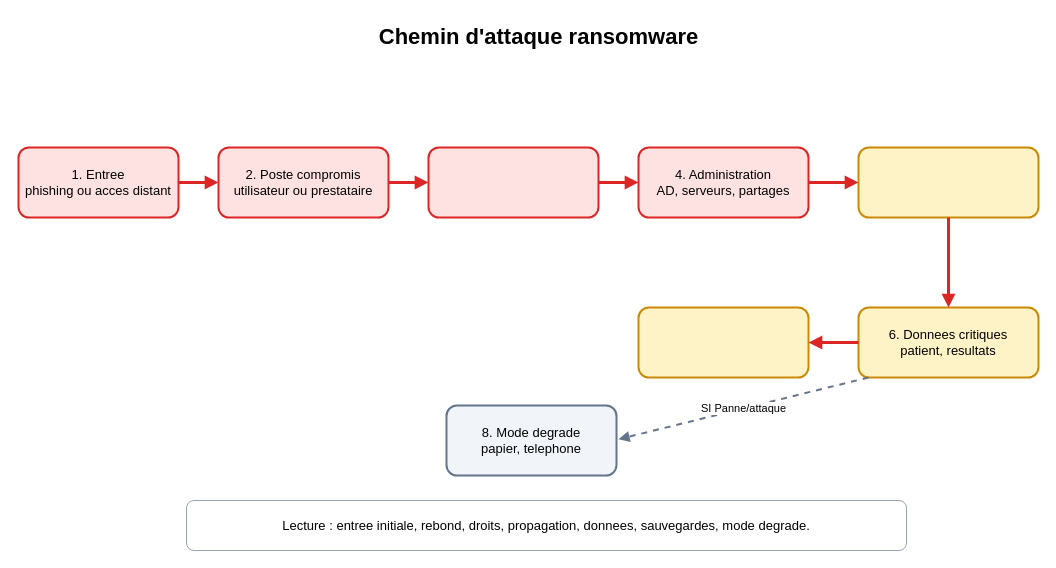
Image size: 1056x568. Some labels were removed from this diagram. The shapes that lost their labels are listed below. From the top down, each one's centre as x and y in pixels, then its label:
At point (513, 182): "3. Identifiants recuperation de droits".
At point (948, 182): "5. Applications metiers DPI, labo, imagerie".
At point (723, 342): "7. Sauvegardes restauration".
